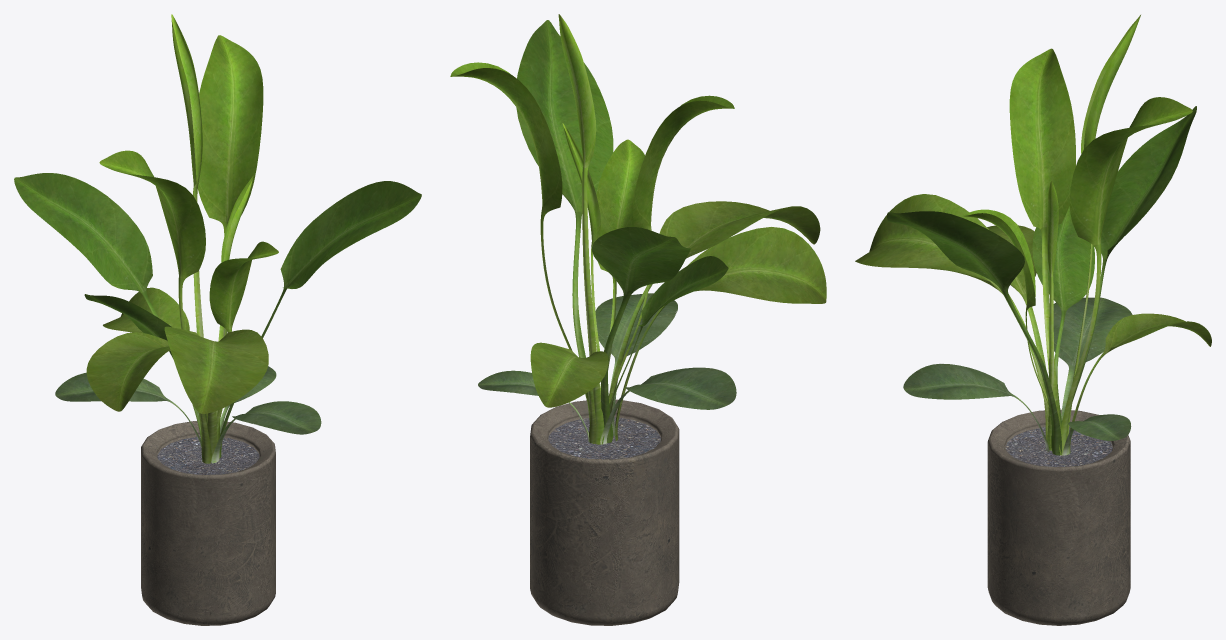
Rendered from fern.obj.
The picture shows the model from 3 angles, left to right: view 1: azimuth 30°, elevation 25°; view 2: azimuth 150°, elevation 25°; view 3: azimuth 270°, elevation 25°; orthographic projection. The views are drawn at different scales.
Parts seen in each view (by area): view 1: plant_lambert2_0, concrete_pot_lambert3_0; view 2: plant_lambert2_0, concrete_pot_lambert3_0; view 3: plant_lambert2_0, concrete_pot_lambert3_0.
Part boxes in pixels (x1,y1,x2,y2): plant_lambert2_0: (14,14,421,463); concrete_pot_lambert3_0: (141,421,275,625); plant_lambert2_0: (450,14,826,444); concrete_pot_lambert3_0: (530,399,679,625); plant_lambert2_0: (855,15,1211,455); concrete_pot_lambert3_0: (987,409,1130,625).
Bounding box in the file's own units: 0.9757 × 1.81 × 0.9984.
